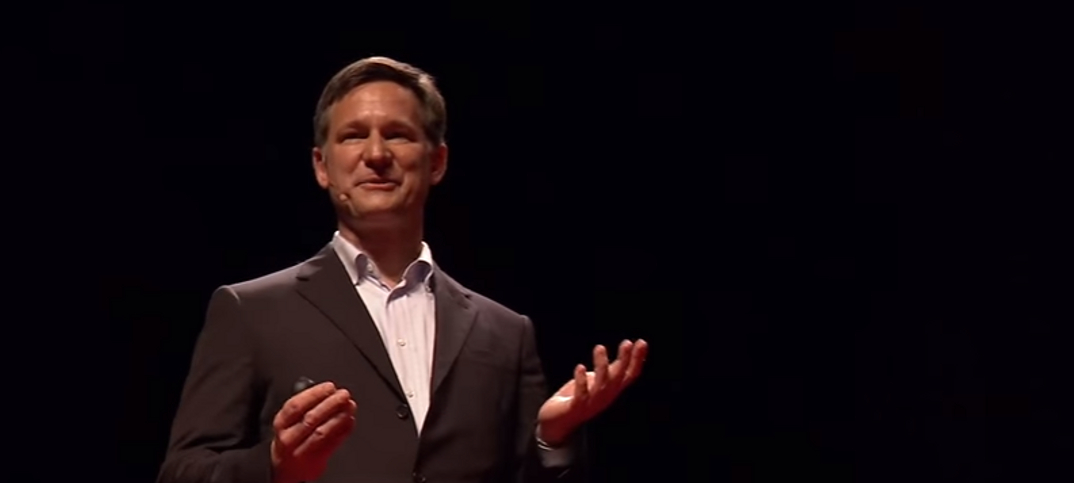human: (162, 52, 659, 483)
